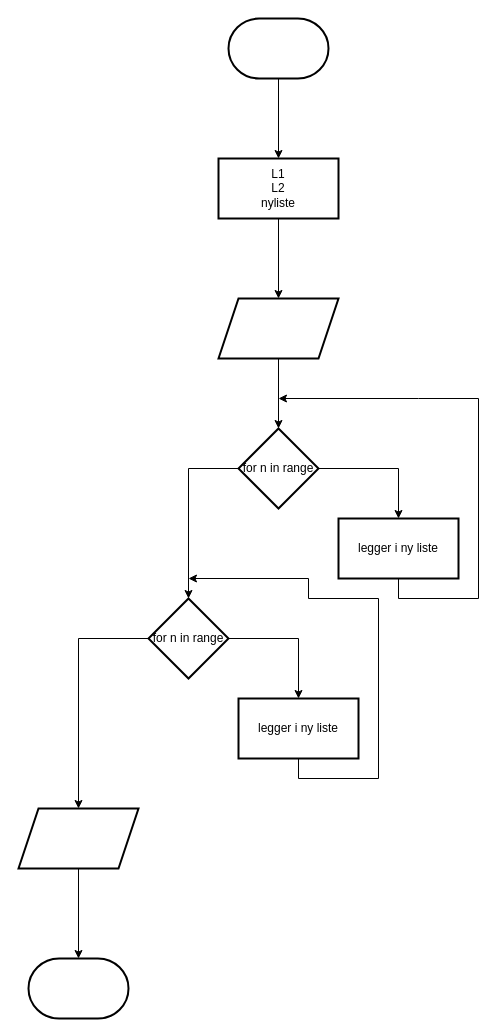
This 504x1036 diagram has some shape labels left out. The centre of each missing label's shape, as x and y in pixels:
"print listene" belongs at (x=278, y=328).
"print nyliste" belongs at (x=78, y=838).
"Start" belongs at (x=278, y=48).
